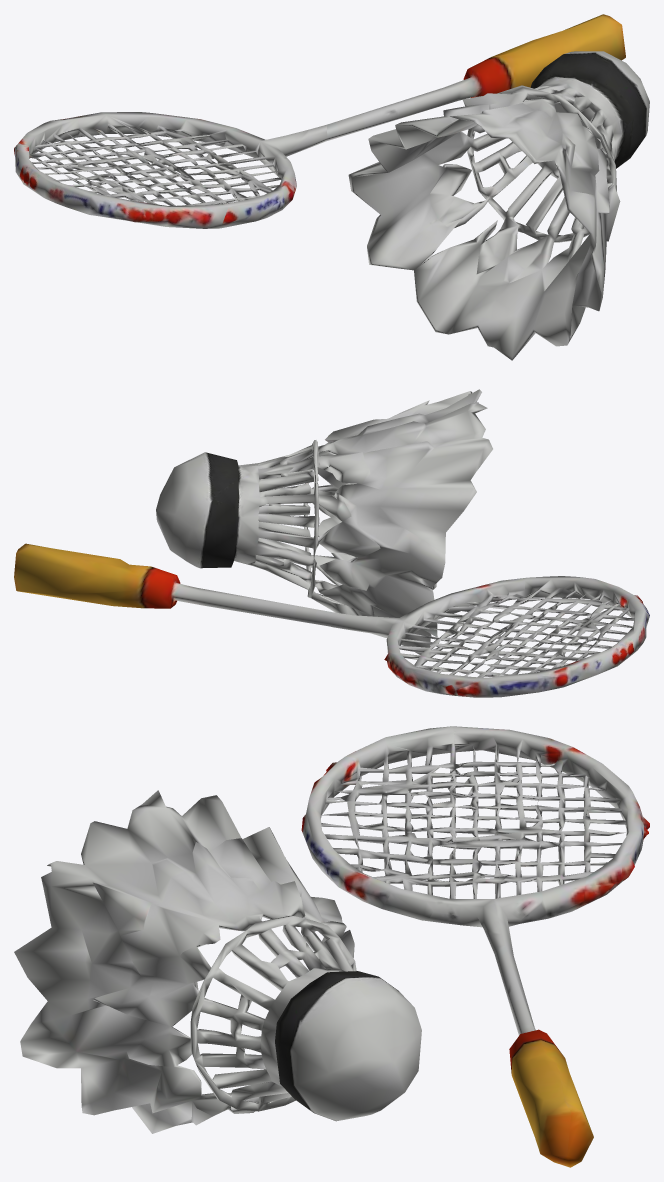
The model's file is racket.glb.
3 views of the same model, one above another, from view 1: azimuth 30°, elevation 25°; view 2: azimuth 150°, elevation 25°; view 3: azimuth 270°, elevation 25° (orthographic). The views are drawn at different scales.
Parts seen in each view (by area): view 1: node_6f75f672-c6d3-42e5-9e2d-d548a8bacc09; view 2: node_6f75f672-c6d3-42e5-9e2d-d548a8bacc09; view 3: node_6f75f672-c6d3-42e5-9e2d-d548a8bacc09.
Boxes of the visible parts, x1,y1,x2,y2 form: node_6f75f672-c6d3-42e5-9e2d-d548a8bacc09: (14, 14, 649, 360); node_6f75f672-c6d3-42e5-9e2d-d548a8bacc09: (14, 389, 649, 697); node_6f75f672-c6d3-42e5-9e2d-d548a8bacc09: (14, 726, 649, 1167).
Size of the model in its own units: 0.9982 by 0.3938 by 0.735.
Materials: 1 (1 with a texture image).
